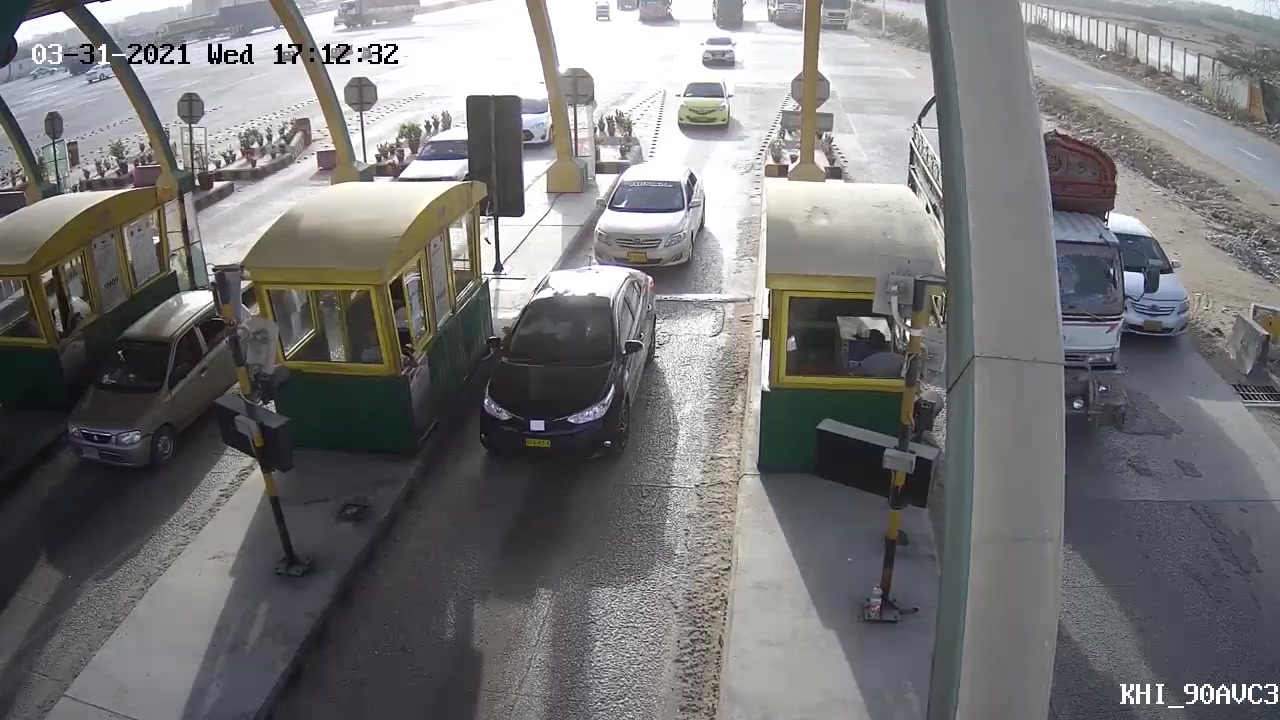F1: (476, 260, 664, 464), (585, 156, 711, 274)
